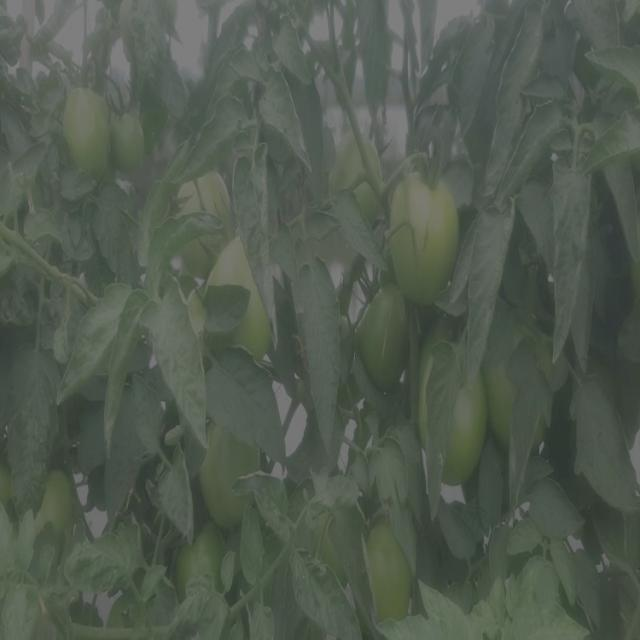tomato: (394, 168, 469, 306), (205, 228, 278, 359), (196, 411, 265, 532), (426, 348, 485, 481), (488, 344, 547, 461), (352, 281, 412, 393), (362, 517, 418, 634), (61, 73, 115, 178), (172, 532, 231, 613), (332, 133, 387, 218), (37, 463, 87, 545), (185, 169, 234, 226), (112, 108, 143, 173)
